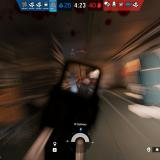Character: (78, 78, 94, 95)
Friend_label: (70, 48, 75, 54)
Head: (83, 78, 91, 86)
